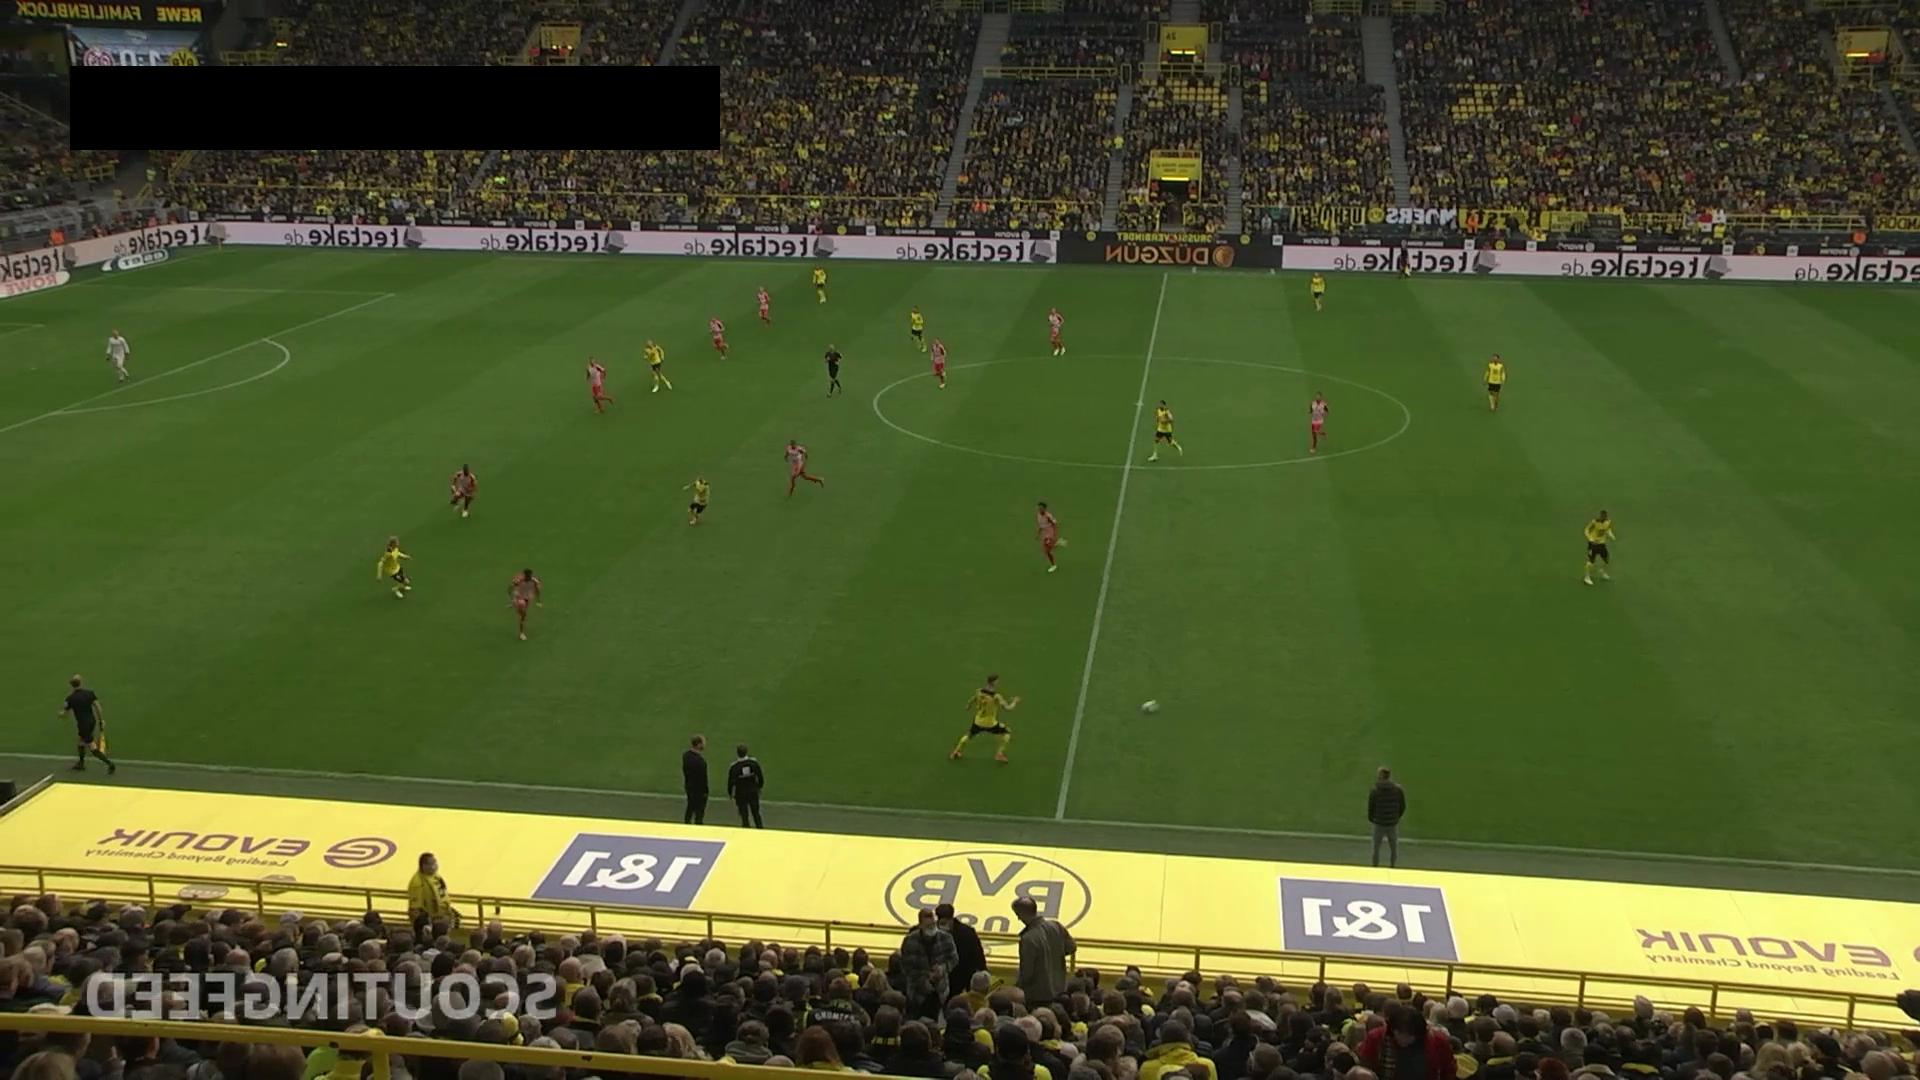ball: (1140, 699, 1160, 715)
goalkeeper: (104, 327, 131, 382)
player: (949, 674, 1020, 763), (1582, 509, 1616, 585), (783, 439, 825, 500), (509, 567, 542, 641), (1146, 398, 1184, 462), (377, 535, 414, 598), (1035, 501, 1060, 573), (642, 338, 673, 393), (450, 463, 478, 519), (587, 356, 614, 414), (1307, 390, 1330, 454), (684, 475, 710, 526), (1484, 353, 1506, 411), (707, 314, 731, 361), (1047, 306, 1066, 356), (930, 337, 947, 389), (910, 305, 926, 353), (1309, 272, 1326, 311), (757, 286, 772, 328), (813, 264, 828, 304)
referee: (58, 673, 117, 775), (824, 344, 843, 397), (1396, 236, 1413, 281)
